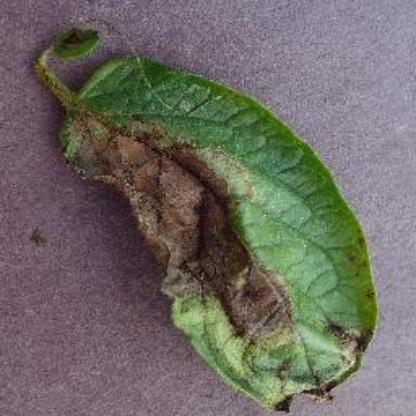Late-Blight: (30, 21, 382, 409)
